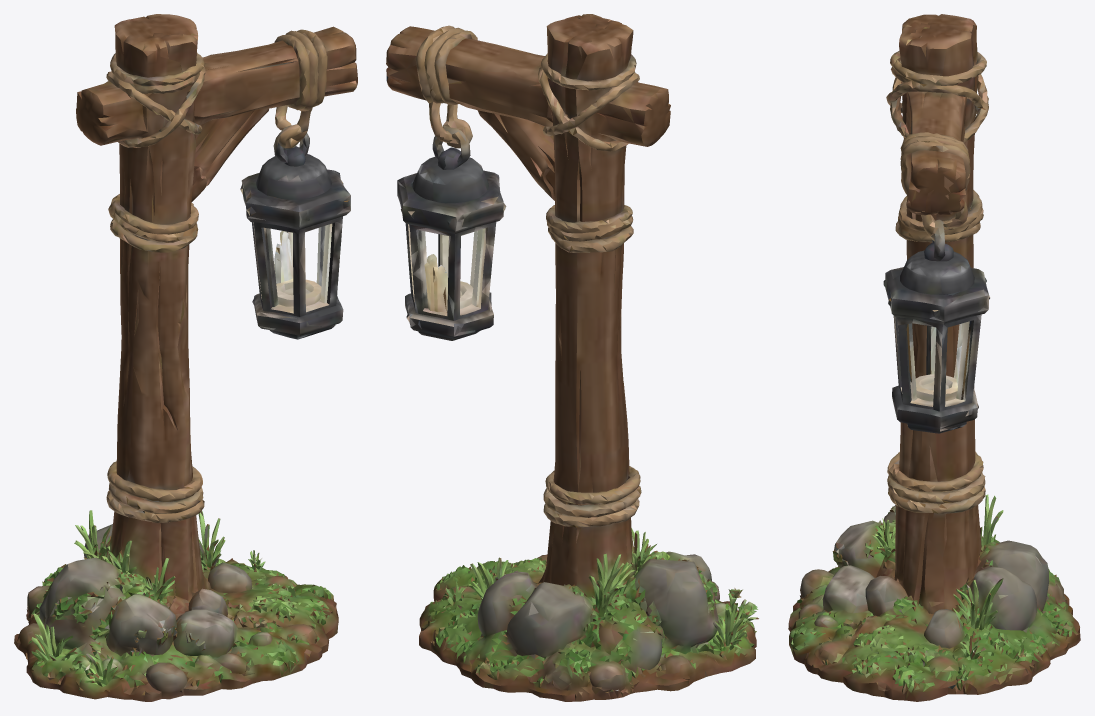
File: LampPostRope.glb
3 views of the same model, side by side, from view 1: azimuth 30°, elevation 25°; view 2: azimuth 150°, elevation 25°; view 3: azimuth 270°, elevation 25° (orthographic). The views are drawn at different scales.
Parts seen in each view (by area): view 1: LampPostRope; view 2: LampPostRope; view 3: LampPostRope.
Part boxes in pixels (bbox=[...]): LampPostRope: bbox=[14, 14, 357, 701]; LampPostRope: bbox=[386, 14, 758, 701]; LampPostRope: bbox=[788, 14, 1080, 701].
Size of the model in its own units: 1.64 by 2.88 by 1.27.
2 materials, 2 textured.
